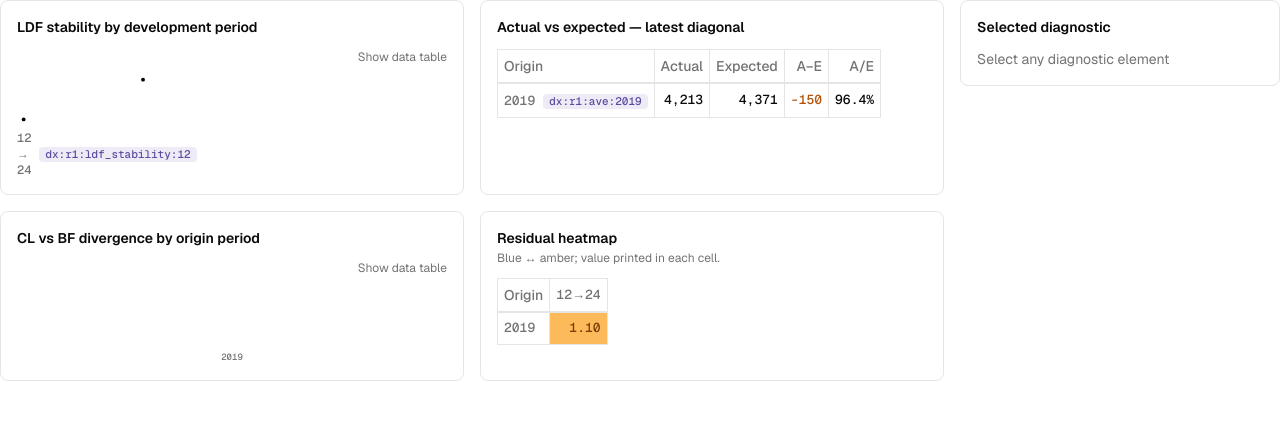
Test case: DiagnosticContextRail + selection (Story 4.6) › click-selects an AvE row and fills the rail with STORED values (AC1/AC5)
Click the button "dx:r1:ave:2019".
click(595, 102)  # box 543,94 -> 648,109
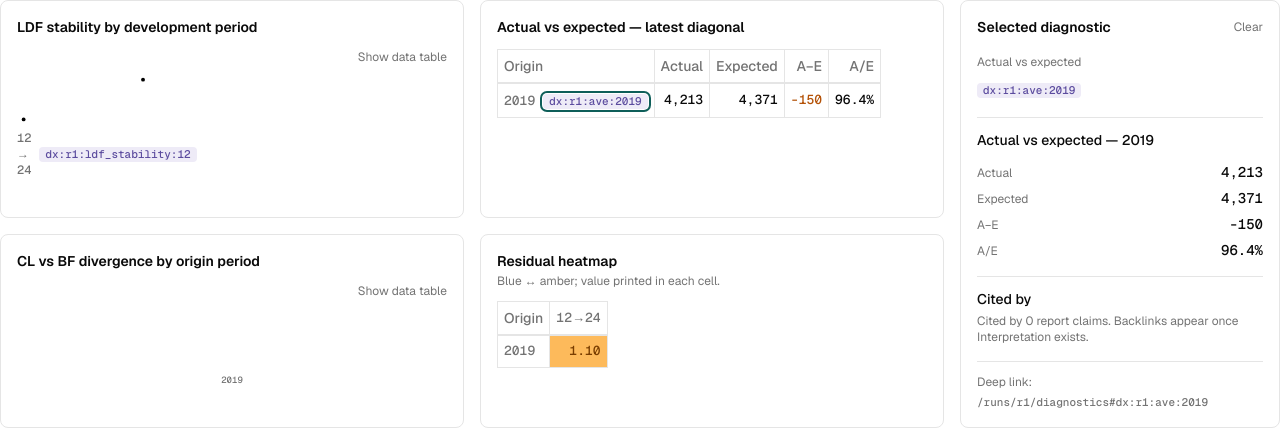
expect the heading "Actual vs expected — 2019" is shown: met, box 977,131 -> 1154,149
expect the text "-150" is shown: met, box 1229,214 -> 1263,234
expect the text "96.4%" is shown: met, box 1221,240 -> 1263,260
